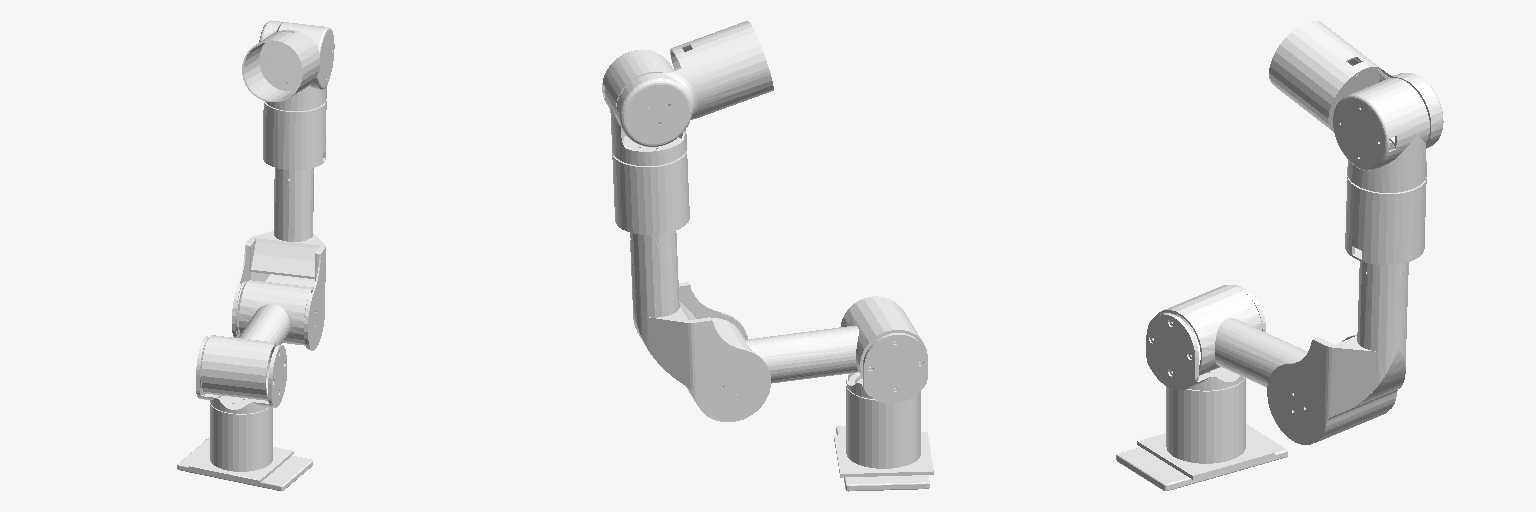
URDF robot description (URDF):
<?xml version="1.0" encoding="utf-8"?>
<!-- This URDF was automatically created by SolidWorks to URDF Exporter! Originally created by Stephen Brawner (brawner@gmail.com) 
     Commit Version: 1.6.0-4-g7f85cfe  Build Version: 1.6.7995.38578
     For more information, please see http://wiki.ros.org/sw_urdf_exporter -->
<robot
  name="URDF">
  <link
    name="base_link">
    <inertial>
      <origin
        xyz="-0.0028472 -0.012903 -0.033655"
        rpy="0 0 0" />
      <mass
        value="0.22649" />
      <inertia
        ixx="0.00033741"
        ixy="-1.2875E-19"
        ixz="-5.9541E-05"
        iyy="0.00046118"
        iyz="-2.5784E-19"
        izz="0.00028889" />
    </inertial>
    <visual>
      <origin
        xyz="0 0 0"
        rpy="0 0 0" />
      <geometry>
        <mesh
          filename="../meshes/base_link.STL" />
      </geometry>
      <material
        name="">
        <color
          rgba="1 1 1 1" />
      </material>
    </visual>
    <collision>
      <origin
        xyz="0 0 0"
        rpy="0 0 0" />
      <geometry>
        <mesh
          filename="../meshes/base_link.STL" />
      </geometry>
    </collision>
  </link>
  <link
    name="Empty_Link1">
    <inertial>
      <origin
        xyz="0.027875 4.4502E-07 4.2904E-07"
        rpy="0 0 0" />
      <mass
        value="0.052202" />
      <inertia
        ixx="0.00011158"
        ixy="3.2787E-10"
        ixz="-9.9473E-11"
        iyy="9.0737E-05"
        iyz="3.4435E-05"
        izz="8.9798E-05" />
    </inertial>
    <visual>
      <origin
        xyz="0 0 0"
        rpy="0 0 0" />
      <geometry>
        <mesh
          filename="../meshes/Empty_Link1.STL" />
      </geometry>
      <material
        name="">
        <color
          rgba="1 1 1 1" />
      </material>
    </visual>
    <collision>
      <origin
        xyz="0 0 0"
        rpy="0 0 0" />
      <geometry>
        <mesh
          filename="../meshes/Empty_Link1.STL" />
      </geometry>
    </collision>
  </link>
  <joint
    name="j1"
    type="revolute">
    <origin
      xyz="-0.0044519 0.035576 0.056215"
      rpy="1.5708 -1.5708 0" />
    <parent
      link="base_link" />
    <child
      link="Empty_Link1" />
    <axis
      xyz="1 0 0" />
    <limit
      lower="0"
      upper="0"
      effort="0"
      velocity="0" />
  </joint>
  <link
    name="Empty_Link2">
    <inertial>
      <origin
        xyz="0.049821 -0.0016652 0.089461"
        rpy="0 0 0" />
      <mass
        value="0.13587" />
      <inertia
        ixx="0.0010278"
        ixy="-2.9184E-07"
        ixz="7.4419E-07"
        iyy="0.0010376"
        iyz="1.6034E-05"
        izz="0.00015077" />
    </inertial>
    <visual>
      <origin
        xyz="0 0 0"
        rpy="0 0 0" />
      <geometry>
        <mesh
          filename="../meshes/Empty_Link2.STL" />
      </geometry>
      <material
        name="">
        <color
          rgba="1 1 1 1" />
      </material>
    </visual>
    <collision>
      <origin
        xyz="0 0 0"
        rpy="0 0 0" />
      <geometry>
        <mesh
          filename="../meshes/Empty_Link2.STL" />
      </geometry>
    </collision>
  </link>
  <joint
    name="j2"
    type="revolute">
    <origin
      xyz="0.045635 -0.029846 0.030256"
      rpy="3.1416 0.79222 1.5708" />
    <parent
      link="Empty_Link1" />
    <child
      link="Empty_Link2" />
    <axis
      xyz="1 0 0" />
    <limit
      lower="0"
      upper="0"
      effort="0"
      velocity="0" />
  </joint>
  <link
    name="Empty_Link3">
    <inertial>
      <origin
        xyz="0.050129 0.13127 0.058716"
        rpy="0 0 0" />
      <mass
        value="0.2167" />
      <inertia
        ixx="0.00064012"
        ixy="6.9419E-07"
        ixz="2.9775E-08"
        iyy="0.00040214"
        iyz="-0.000141"
        izz="0.00063948" />
    </inertial>
    <visual>
      <origin
        xyz="0 0 0"
        rpy="0 0 0" />
      <geometry>
        <mesh
          filename="../meshes/Empty_Link3.STL" />
      </geometry>
      <material
        name="">
        <color
          rgba="1 1 1 1" />
      </material>
    </visual>
    <collision>
      <origin
        xyz="0 0 0"
        rpy="0 0 0" />
      <geometry>
        <mesh
          filename="../meshes/Empty_Link3.STL" />
      </geometry>
    </collision>
  </link>
  <joint
    name="j3"
    type="revolute">
    <origin
      xyz="-0.007 -0.0037552 0.17996"
      rpy="0 0 0" />
    <parent
      link="Empty_Link2" />
    <child
      link="Empty_Link3" />
    <axis
      xyz="1 0 0" />
    <limit
      lower="0"
      upper="0"
      effort="0"
      velocity="0" />
  </joint>
  <link
    name="Empty_Link4">
    <inertial>
      <origin
        xyz="0.042129 0.00021026 0.012017"
        rpy="0 0 0" />
      <mass
        value="0.054059" />
      <inertia
        ixx="6.7245E-05"
        ixy="-2.0301E-07"
        ixz="-1.1731E-05"
        iyy="9.1965E-05"
        iyz="-2.5118E-07"
        izz="0.00010244" />
    </inertial>
    <visual>
      <origin
        xyz="0 0 0"
        rpy="0 0 0" />
      <geometry>
        <mesh
          filename="../meshes/Empty_Link4.STL" />
      </geometry>
      <material
        name="">
        <color
          rgba="1 1 1 1" />
      </material>
    </visual>
    <collision>
      <origin
        xyz="0 0 0"
        rpy="0 0 0" />
      <geometry>
        <mesh
          filename="../meshes/Empty_Link4.STL" />
      </geometry>
    </collision>
  </link>
  <joint
    name="j4"
    type="revolute">
    <origin
      xyz="0.05 0.26477 0.078291"
      rpy="-1.5708 -0.039487 1.5708" />
    <parent
      link="Empty_Link3" />
    <child
      link="Empty_Link4" />
    <axis
      xyz="1 0 0" />
    <limit
      lower="0"
      upper="0"
      effort="0"
      velocity="0" />
  </joint>
  <link
    name="Empty_Link5">
    <inertial>
      <origin
        xyz="0.034857 0.015355 0.057414"
        rpy="0 0 0" />
      <mass
        value="0.069965" />
      <inertia
        ixx="0.00017859"
        ixy="-1.0817E-05"
        ixz="-4.0435E-05"
        iyy="0.00018392"
        iyz="-2.1807E-05"
        izz="0.00010933" />
    </inertial>
    <visual>
      <origin
        xyz="0 0 0"
        rpy="0 0 0" />
      <geometry>
        <mesh
          filename="../meshes/Empty_Link5.STL" />
      </geometry>
      <material
        name="">
        <color
          rgba="1 1 1 1" />
      </material>
    </visual>
    <collision>
      <origin
        xyz="0 0 0"
        rpy="0 0 0" />
      <geometry>
        <mesh
          filename="../meshes/Empty_Link5.STL" />
      </geometry>
    </collision>
  </link>
  <joint
    name="j5"
    type="revolute">
    <origin
      xyz="0.06 2.165E-05 -0.041"
      rpy="0.039487 -1.5703 -1.5708" />
    <parent
      link="Empty_Link4" />
    <child
      link="Empty_Link5" />
    <axis
      xyz="1 -4.8552E-05 0" />
    <limit
      lower="0"
      upper="0"
      effort="0"
      velocity="0" />
  </joint>
</robot>

--- Render facts (derived) ---
Views: 3 orthographic renders of the robot side by side, from view 1: azimuth 30°, elevation 25°; view 2: azimuth 150°, elevation 25°; view 3: azimuth 270°, elevation 25°.
Model URDF with 6 links and 5 joints (5 revolute), rooted at base_link, posed every joint at zero.
Links seen in each view (by area): view 1: Empty_Link3, Empty_Link2, base_link, Empty_Link5, Empty_Link1, Empty_Link4; view 2: Empty_Link3, Empty_Link5, base_link, Empty_Link2, Empty_Link1, Empty_Link4; view 3: Empty_Link3, base_link, Empty_Link4, Empty_Link5, Empty_Link2, Empty_Link1.
Boxes of the visible links, x1,y1,x2,y2 form: Empty_Link3: [232, 100, 326, 350]; Empty_Link2: [201, 280, 313, 400]; base_link: [177, 403, 312, 490]; Empty_Link5: [242, 20, 320, 101]; Empty_Link1: [196, 336, 286, 413]; Empty_Link4: [265, 22, 334, 110]; Empty_Link3: [612, 151, 770, 421]; Empty_Link5: [616, 21, 773, 146]; base_link: [834, 386, 933, 491]; Empty_Link2: [711, 297, 927, 393]; Empty_Link1: [841, 296, 927, 403]; Empty_Link4: [602, 50, 686, 165]; Empty_Link3: [1267, 176, 1426, 444]; base_link: [1116, 378, 1287, 490]; Empty_Link4: [1333, 78, 1429, 192]; Empty_Link5: [1269, 21, 1443, 148]; Empty_Link2: [1155, 285, 1307, 408]; Empty_Link1: [1146, 285, 1265, 390].
Bounding box of the posed robot: 0.3158 × 0.3288 × 0.5321 m (x, y, z).
6 mesh visuals loaded from 6 distinct referenced files (6 binary STL).
